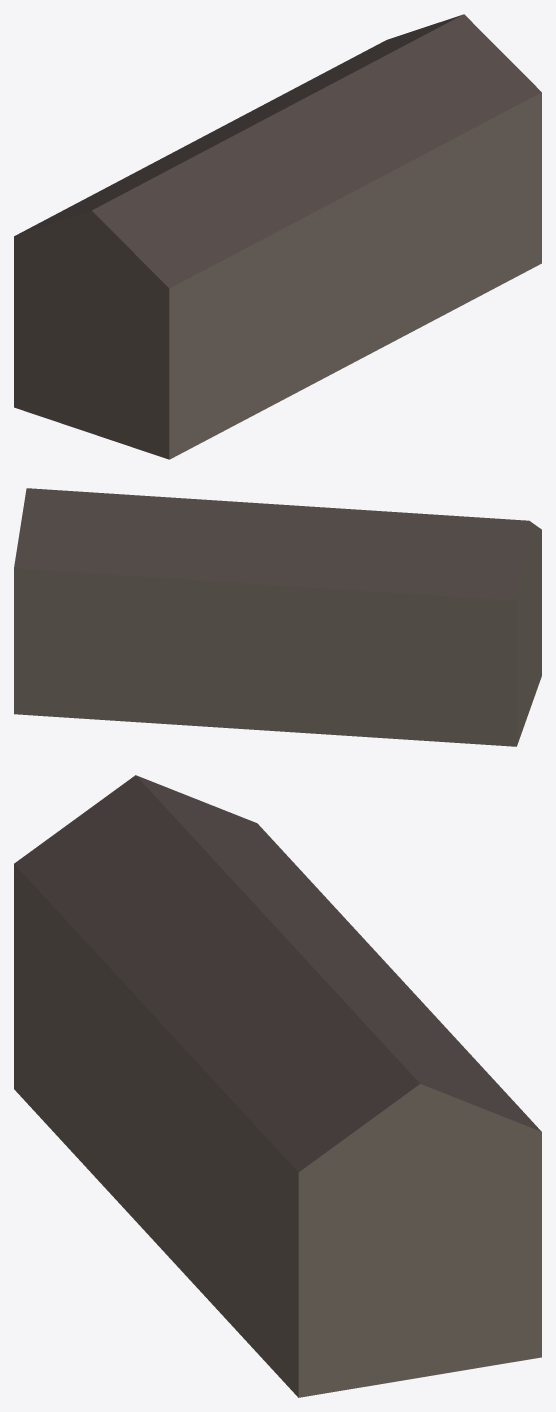
3 views of the same model, one above another, from view 1: azimuth 30°, elevation 25°; view 2: azimuth 150°, elevation 25°; view 3: azimuth 270°, elevation 25° (orthographic). The views are drawn at different scales.
Parts seen in each view (by area): view 1: HP-w859078928; view 2: HP-w859078928; view 3: HP-w859078928.
Boxes of the visible parts, <box> form: HP-w859078928: <box>14,14,541,459</box>; HP-w859078928: <box>14,488,541,746</box>; HP-w859078928: <box>14,775,541,1397</box>.
Size of the model in its own units: 29.92 by 11.74 by 19.11.
